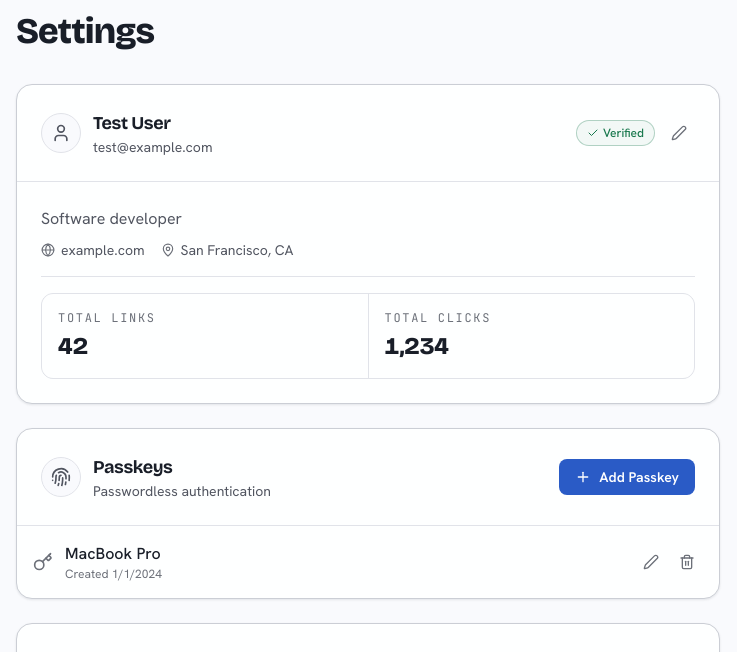
Test: Settings account correctness › Deleting a passkey › keeps the replacement token and reloads with it instead of logging out
The image size is (737, 652).
Click the button named "Delete passkey": (687,562) [671, 546, 703, 578]
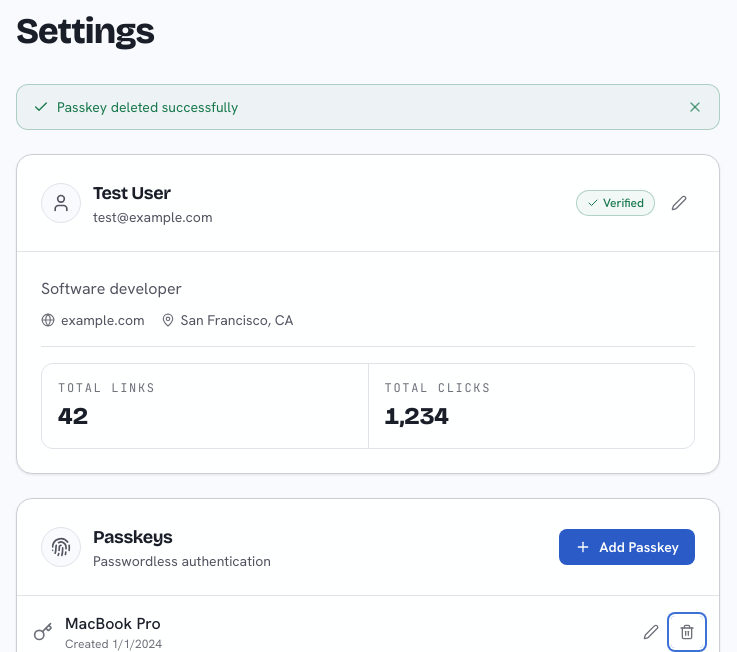
Expected: the text "Passkey deleted successfully" is shown, [16, 84, 720, 130]
